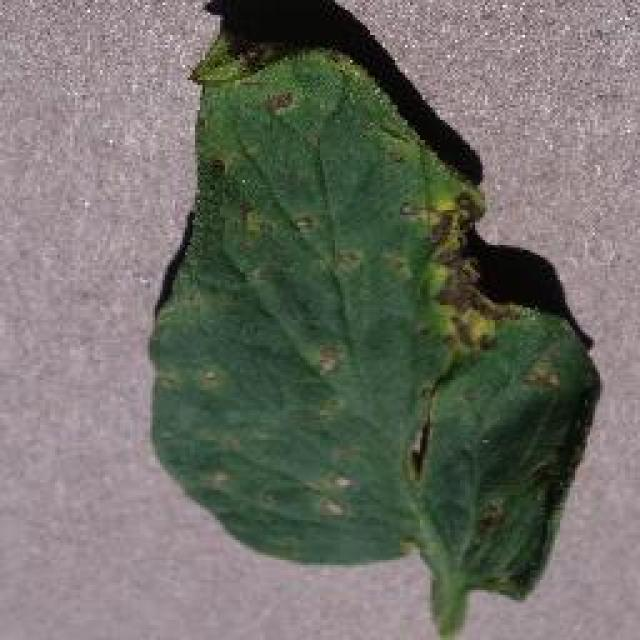Tomato Septoria spot leaf: (144, 28, 604, 605)
